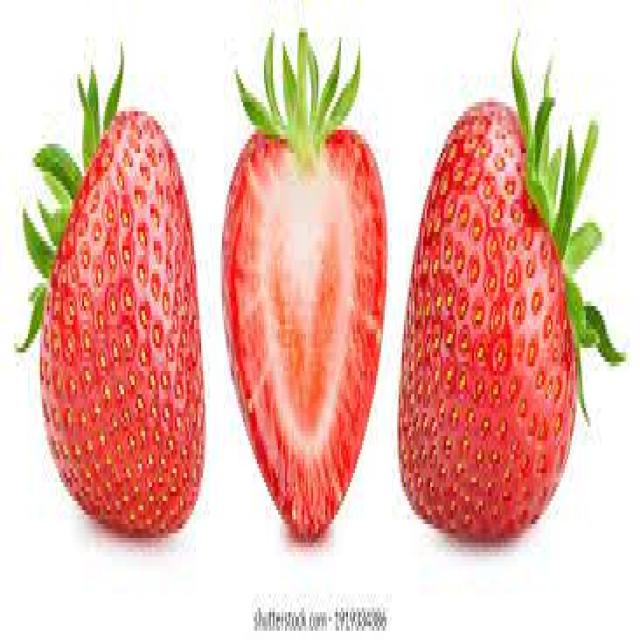strawberry: (398, 35, 606, 569), (11, 48, 214, 584), (218, 40, 387, 549)
